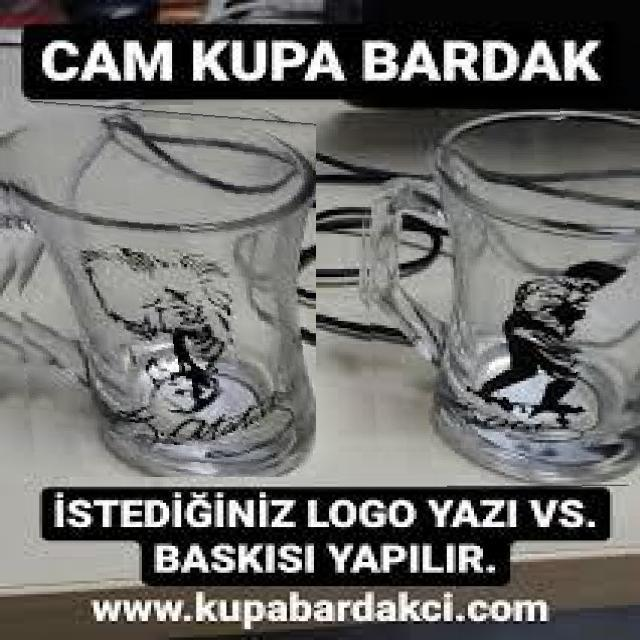Glass: (0, 98, 316, 477), (357, 108, 640, 488)
